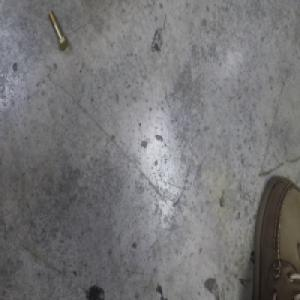Bolt: (47, 10, 68, 53)
